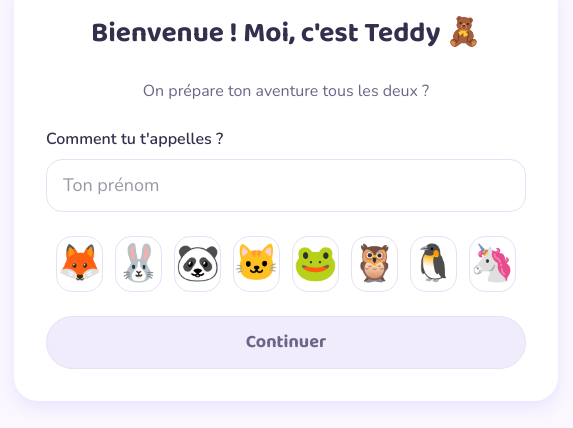
OnboardingFlow — gating par étape (affordance client) › « Continuer » désactivé tant que prénom OU avatar manquent
The width and height of the screenshot is (573, 428).
Expected: the button "Continuer" is disabled, 46,316 -> 526,369
Type "Léa" into the field at (286, 186), box 46,159 -> 526,212
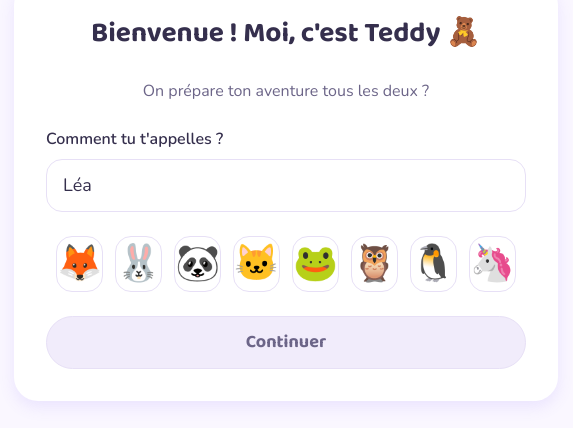
Expected: the button "Continuer" is disabled, 46,316 -> 526,369
Clear the field at (286, 186), box 46,159 -> 526,212
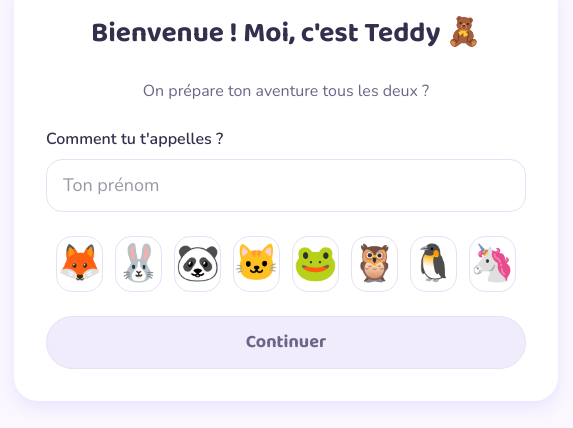
Click the button named "Portrait renard" at (80, 264), box 56,236 -> 103,292
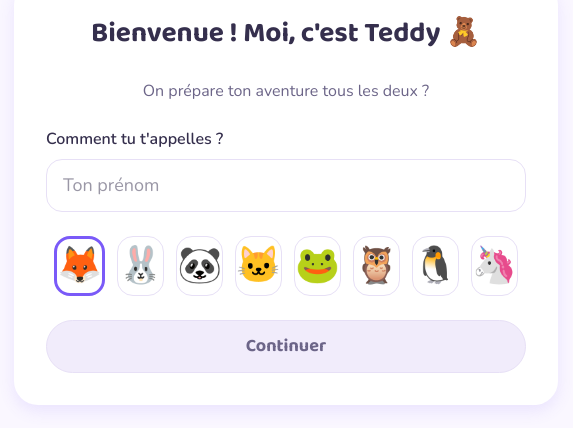
Expected: the button "Continuer" is disabled, 46,320 -> 526,373
Type "Léa" into the field at (286, 186), box 46,159 -> 526,212
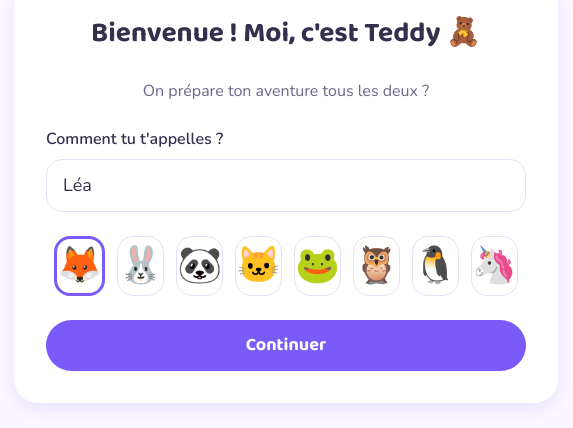
Expected: the button "Continuer" is enabled, 46,320 -> 526,371
